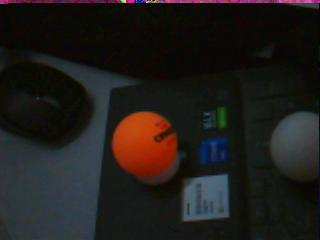oball: (111, 110, 177, 176)
